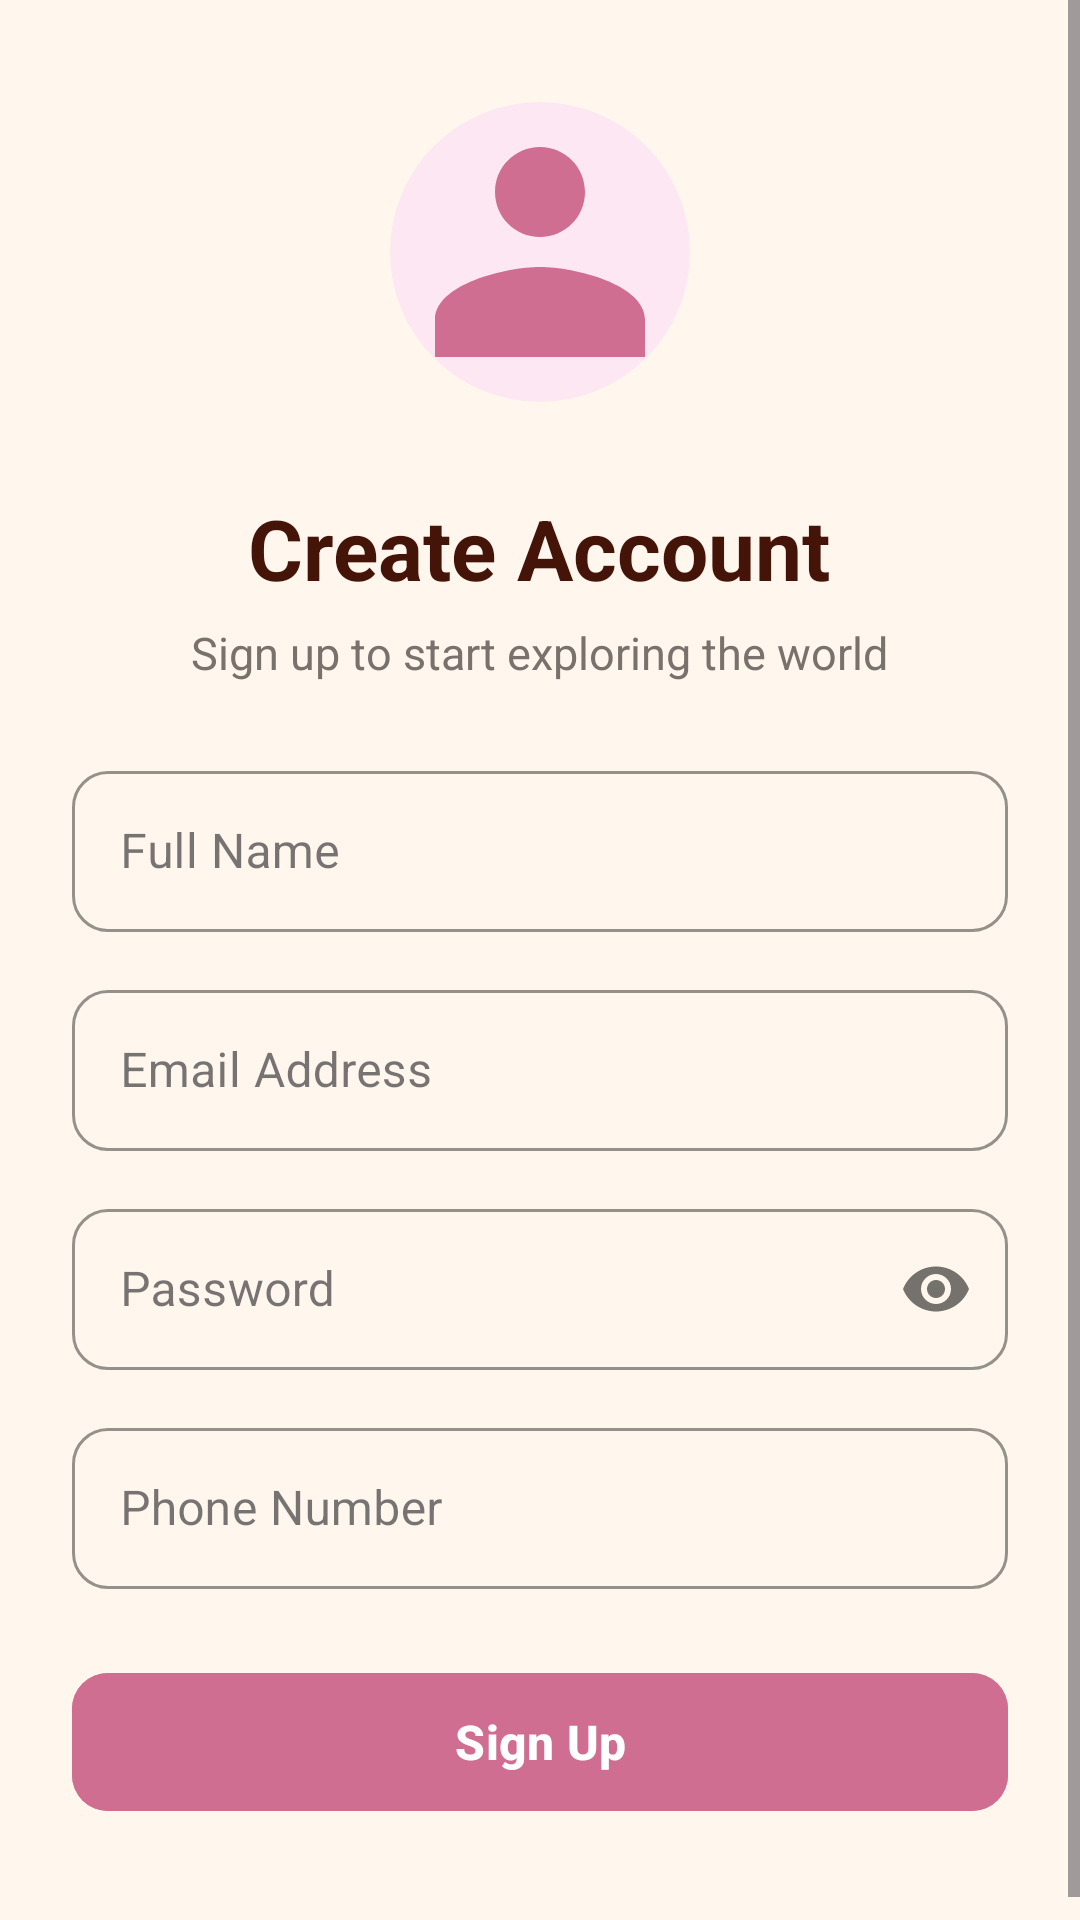

Locate icon controls on the screen. Image size 1080px×1920px, boxes as (x1, y1, x2, y2).
Profile Photo Illustration: (435, 147, 645, 357)
